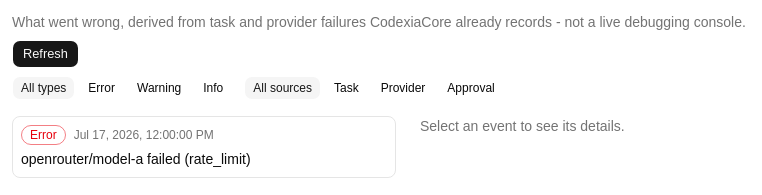
Test: Log › shows a filtered-empty message distinct from the fully-empty one
The image size is (762, 195).
Check: the text "openrouter/model-a failed (rate_limit)" is shown, box [21,149,251,169]
Click the button "Warning". click: click(159, 88)
box: [128,76,190,100]
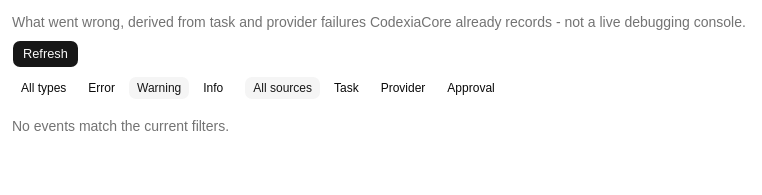
Check: the text "No events match the current filters." is shown, box [12,118,229,134]
